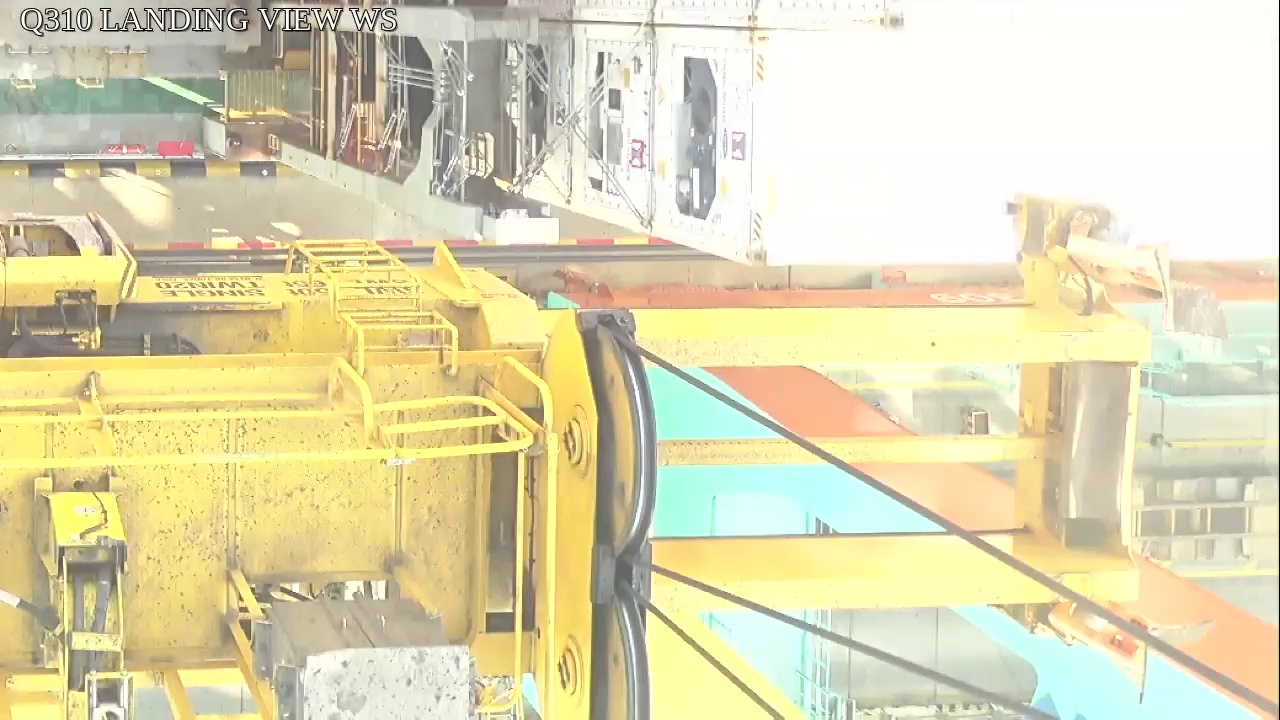right: (538, 308, 653, 720)
